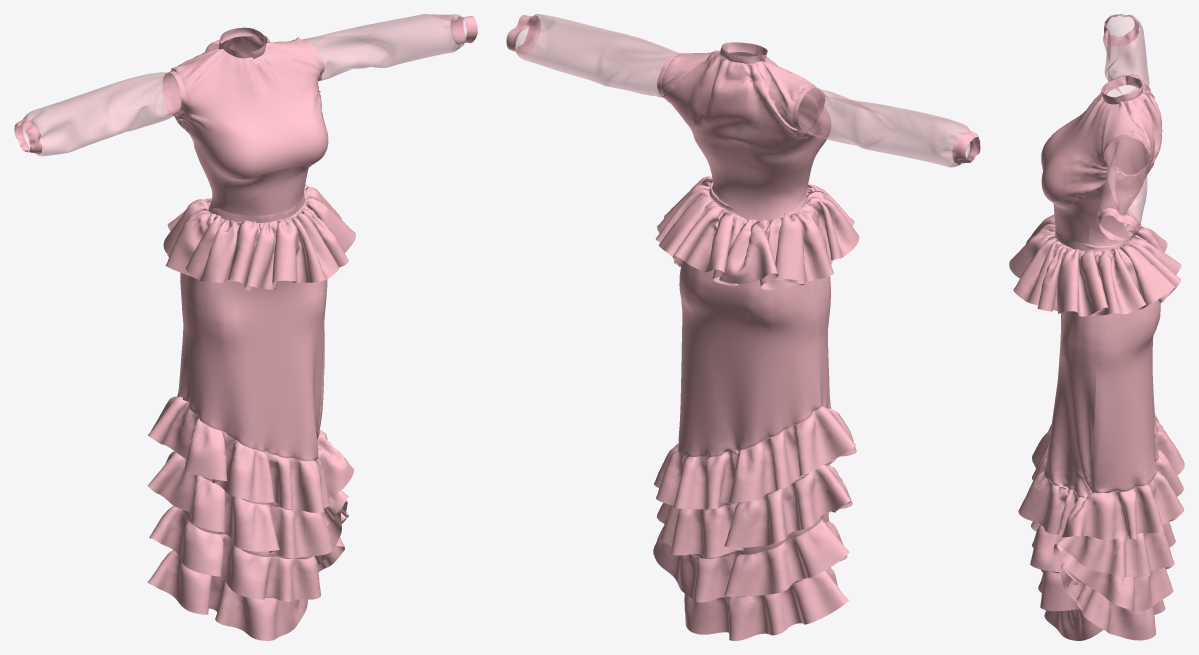
The model's file is G_soft_pink.glb.
The picture shows the model from 3 angles, left to right: view 1: azimuth 30°, elevation 25°; view 2: azimuth 150°, elevation 25°; view 3: azimuth 270°, elevation 25°; orthographic projection. The views are drawn at different scales.
Parts seen in each view (by area): view 1: Garment; view 2: Garment; view 3: Garment.
Part boxes in pixels (x1,y1,x2,y2): Garment: [14, 14, 477, 640]; Garment: [506, 14, 980, 640]; Garment: [1009, 14, 1184, 640].
Size of the model in its own units: 1.15 by 1.41 by 0.4119.
1 material, 1 textured.
